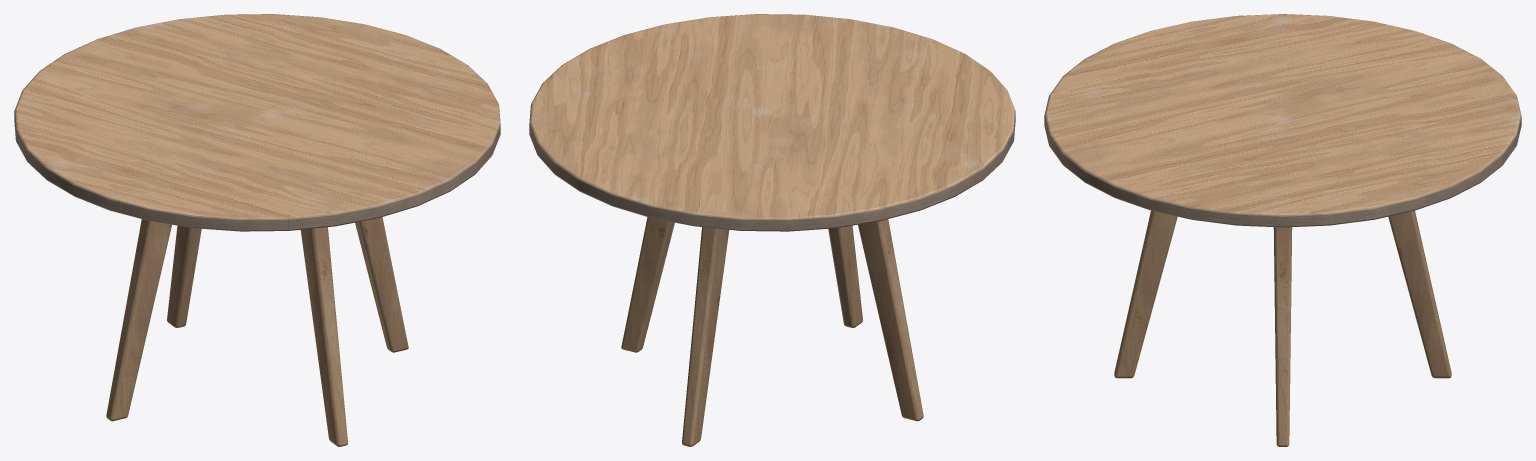
Rendered from Table.obj.
3 views of the same model, side by side, from view 1: azimuth 30°, elevation 25°; view 2: azimuth 150°, elevation 25°; view 3: azimuth 270°, elevation 25° (orthographic). The views are drawn at different scales.
Parts seen in each view (by area): view 1: Table, Legs; view 2: Table, Legs; view 3: Table, Legs.
Boxes of the visible parts, <box> form: Table: <box>14,14,500,231</box>; Legs: <box>106,217,408,446</box>; Table: <box>529,14,1015,231</box>; Legs: <box>621,217,923,446</box>; Table: <box>1044,14,1521,227</box>; Legs: <box>1114,210,1451,446</box>.
Size of the model in its own units: 1.14 by 0.6915 by 1.14.
1 material, 1 textured.
